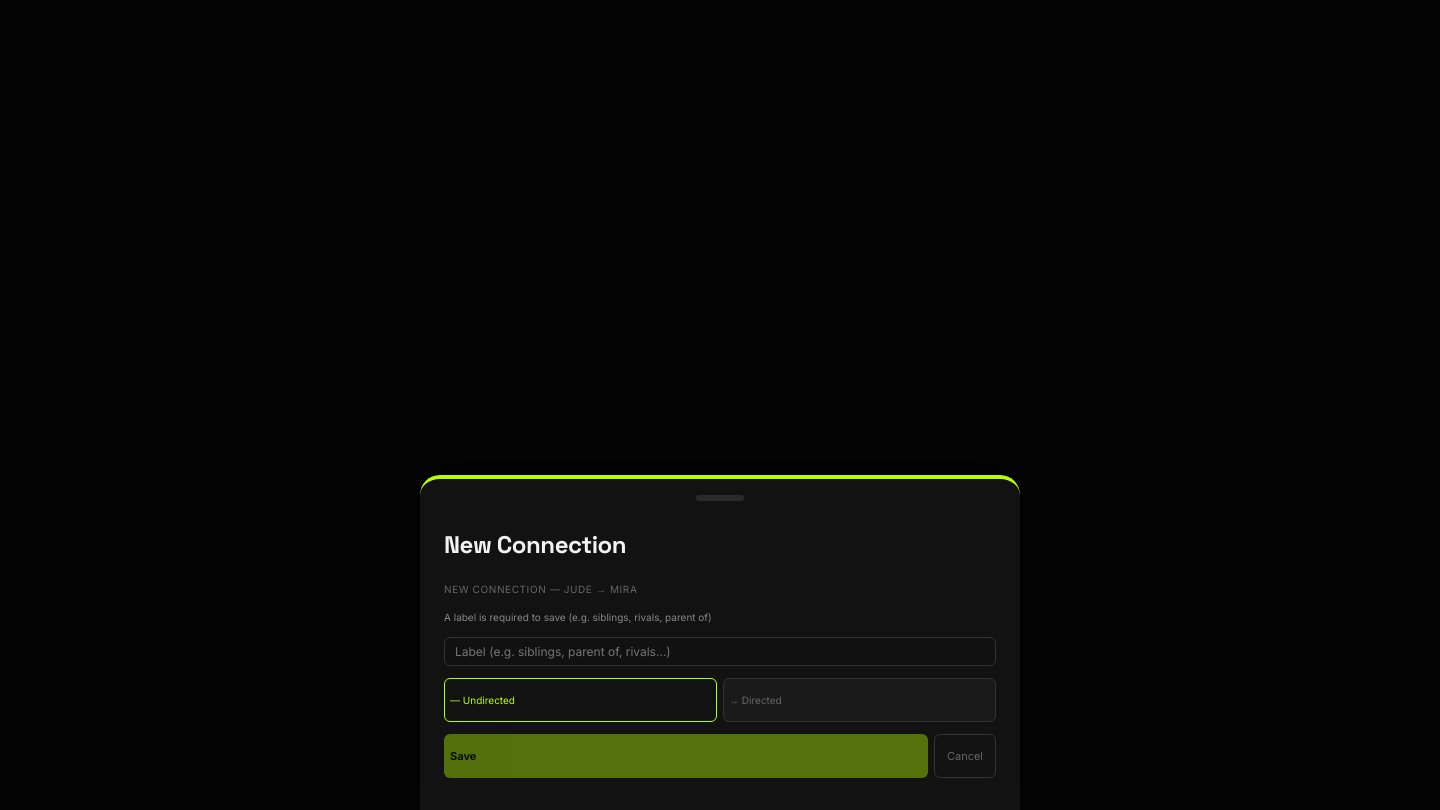
Test: NewRelationshipSheet › save button enabled when label is filled
The image size is (1440, 810).
Type "rivals" into the field with placeholder "Label (e.g. siblings, parent of, rivals…)" at (720, 652), box [444,637,996,666]
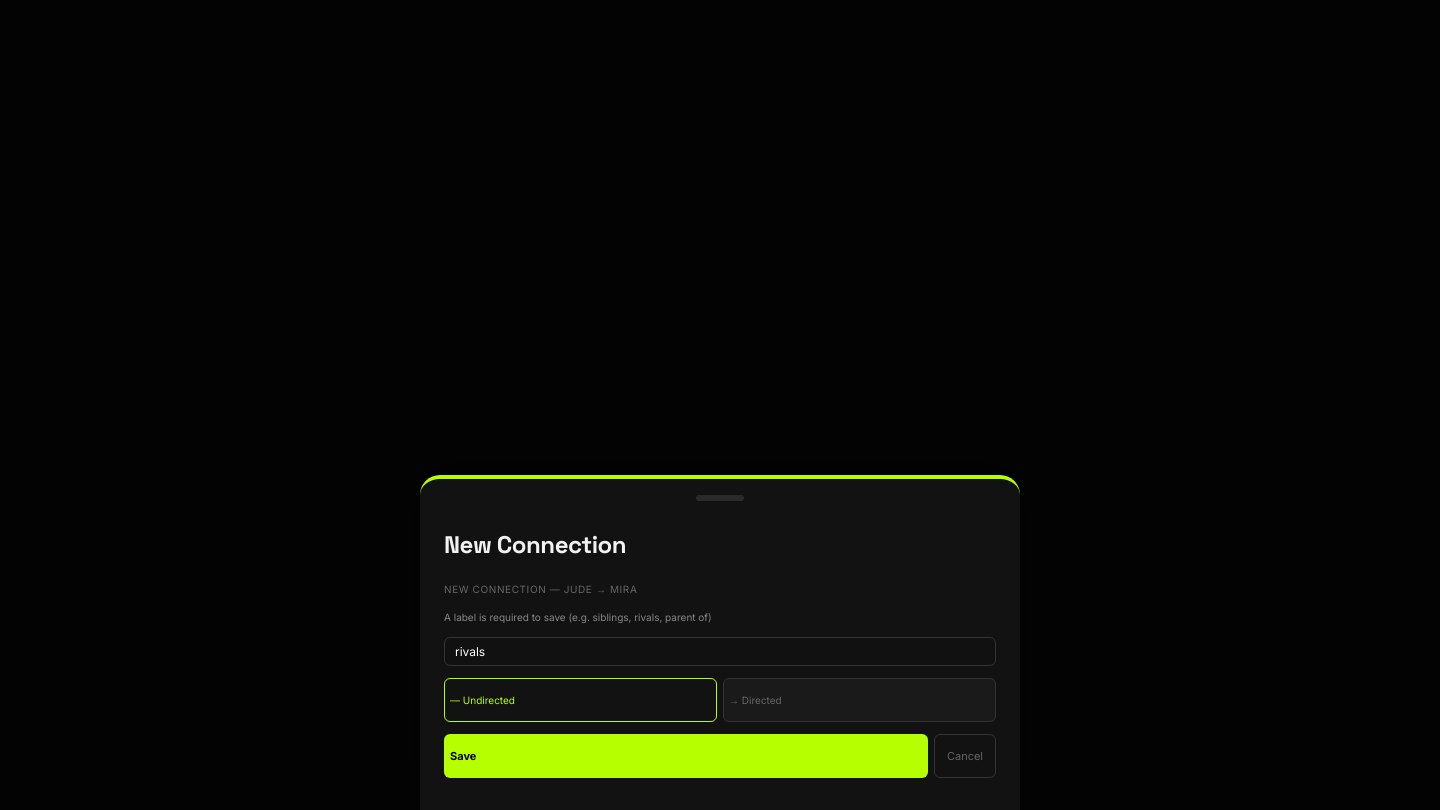
Now the button "Save" is enabled, box [444,734,928,778]
